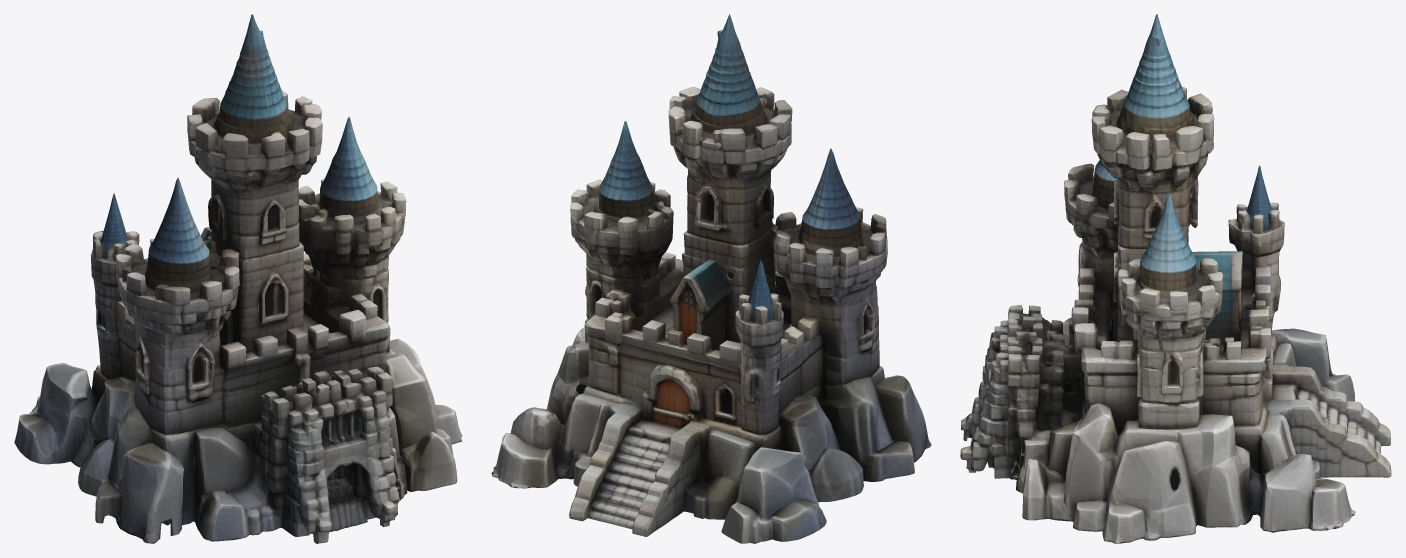
The picture shows the model from 3 angles, left to right: view 1: azimuth 30°, elevation 25°; view 2: azimuth 150°, elevation 25°; view 3: azimuth 270°, elevation 25°; orthographic projection. The views are drawn at different scales.
Parts seen in each view (by area): view 1: world; view 2: world; view 3: world.
Boxes of the visible parts, x1,y1,x2,y2 form: world: (14, 14, 462, 543); world: (491, 14, 931, 543); world: (960, 14, 1391, 543).
Bounding box in the file's own units: 0.8407 × 1 × 0.8876.
1 material, 1 textured.
